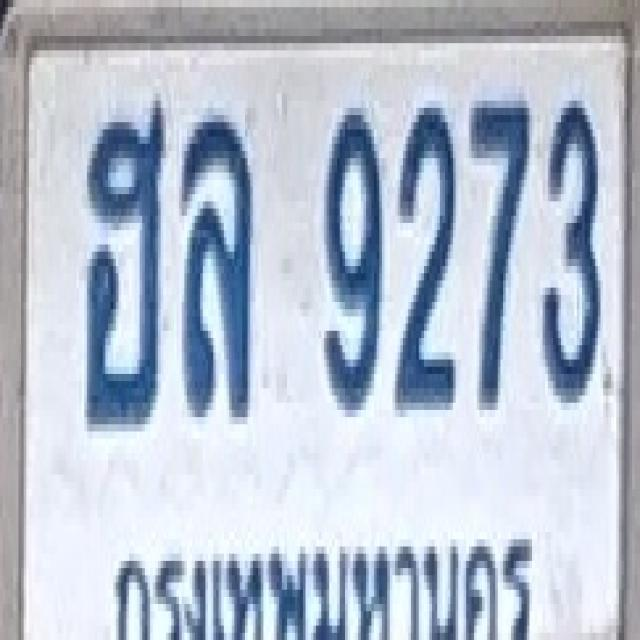-: (84, 97, 166, 428), (182, 108, 253, 417)
2: (392, 101, 456, 410)
3: (540, 94, 600, 402)
7: (469, 93, 529, 410)
9: (322, 101, 380, 410)
